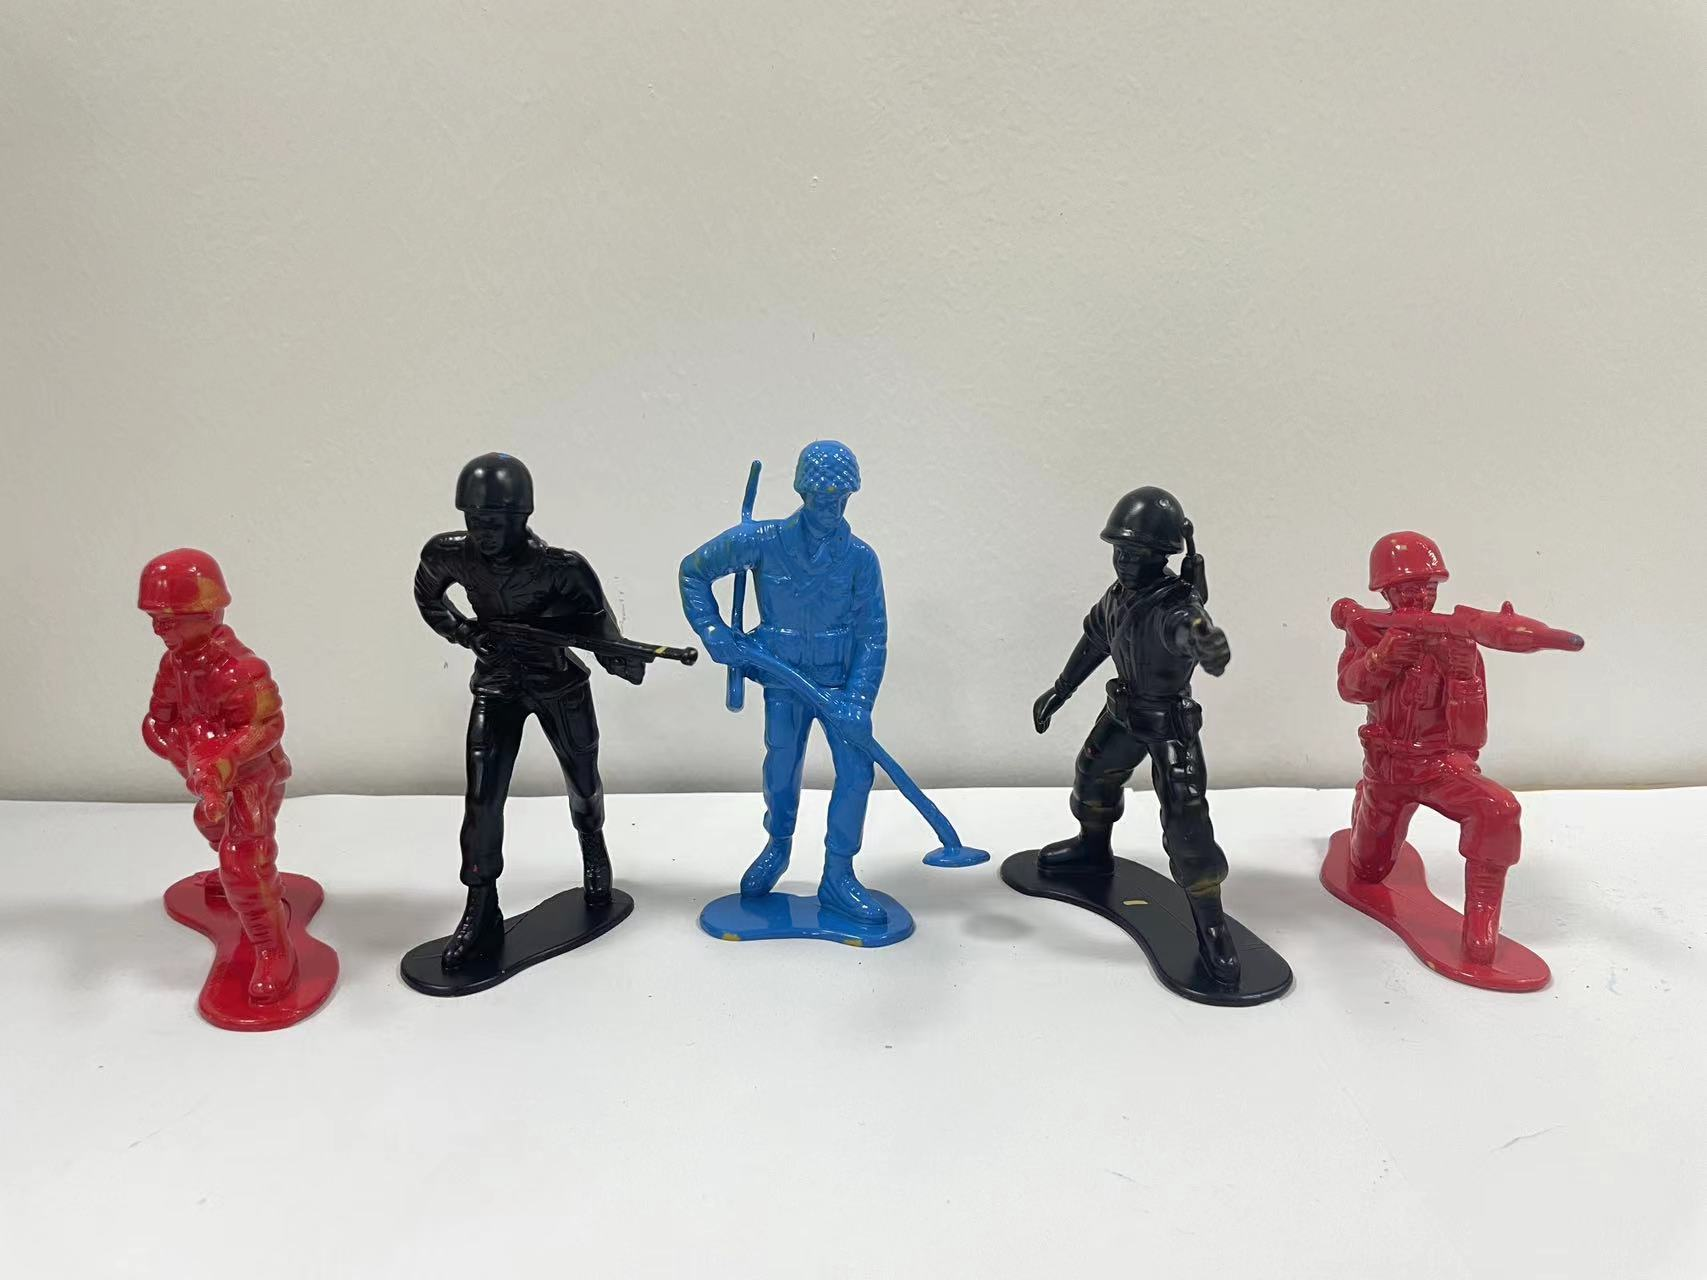black: (991, 424, 1302, 1077), (384, 409, 685, 1029)
blue: (673, 403, 985, 965)
red: (1310, 504, 1641, 1043), (91, 536, 345, 1055)
